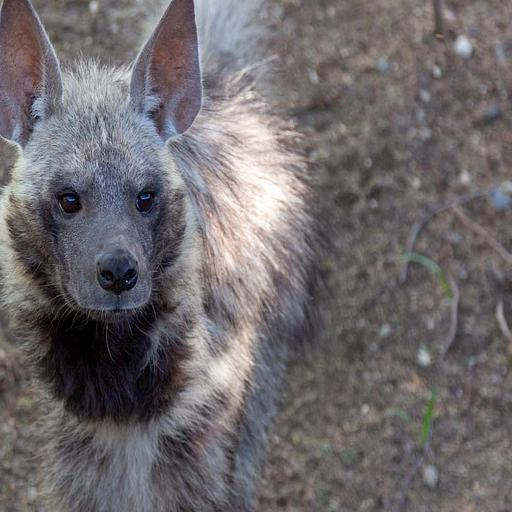Hyena: (0, 0, 318, 512)
